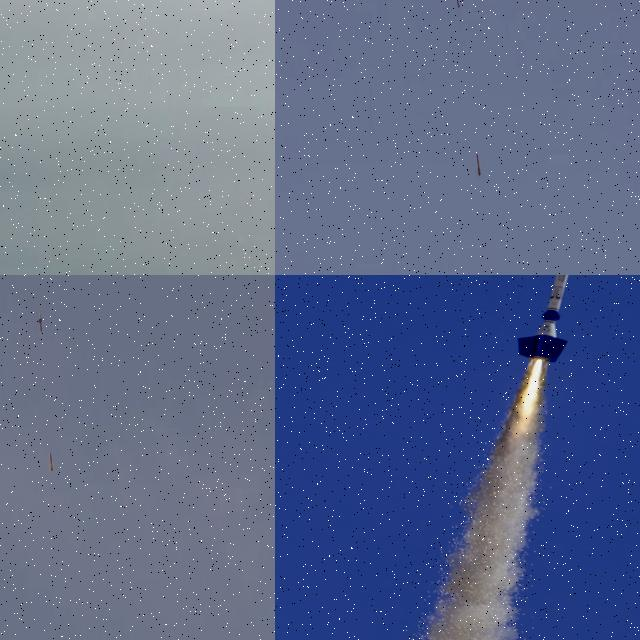Rocket: (517, 275, 574, 363), (477, 154, 481, 175), (50, 452, 54, 472)
